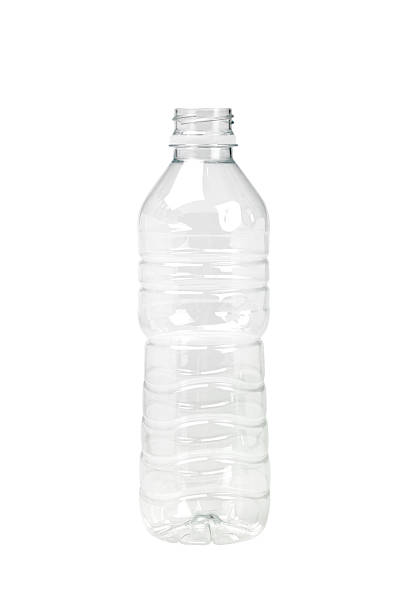HDPE Ring: (167, 133, 236, 145)
PET Bottle: (136, 106, 270, 547)
